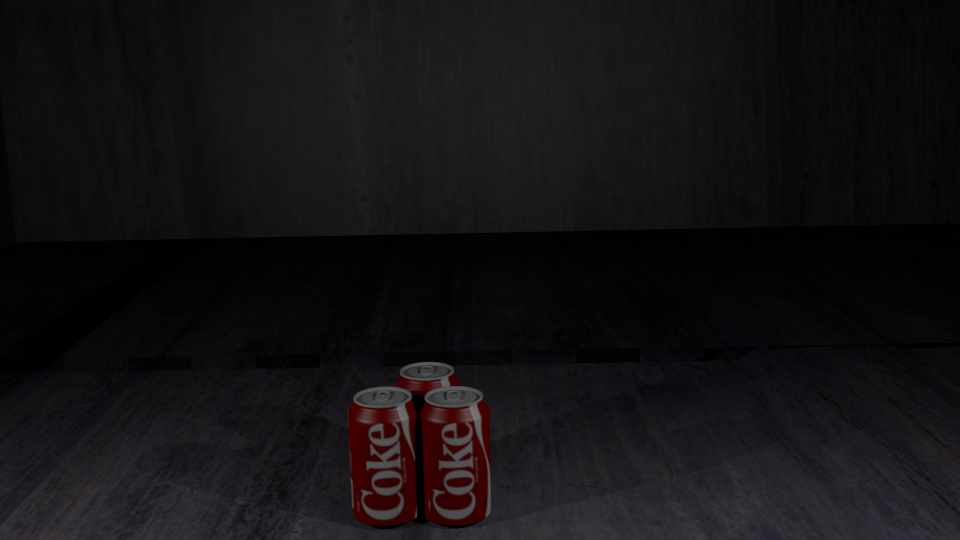cola_can: (348, 387, 420, 522), (419, 386, 489, 520), (395, 362, 459, 489)
